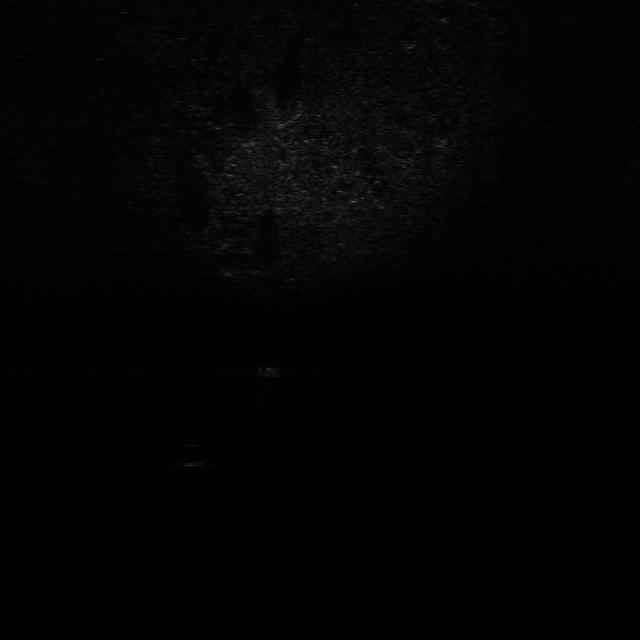ball: (167, 440, 209, 474)
cube: (246, 357, 286, 383)
